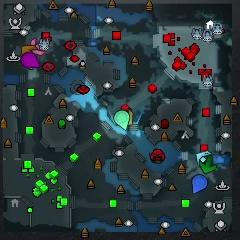p1: (191, 175, 207, 192)
p2: (115, 110, 129, 131)
p3: (21, 53, 41, 68)
x1: (28, 36, 46, 56)
x2: (127, 110, 135, 126)
x3: (197, 149, 212, 163)
x4: (199, 157, 219, 172)
x5: (20, 46, 36, 56)
